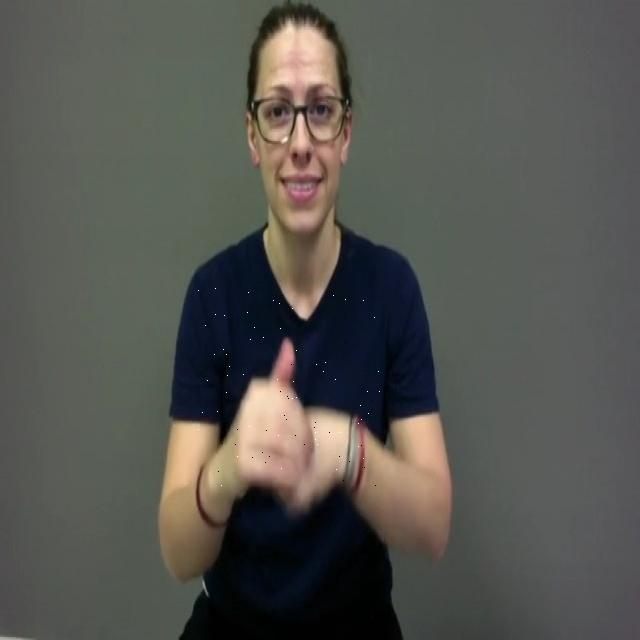bread: (198, 288, 386, 488)
